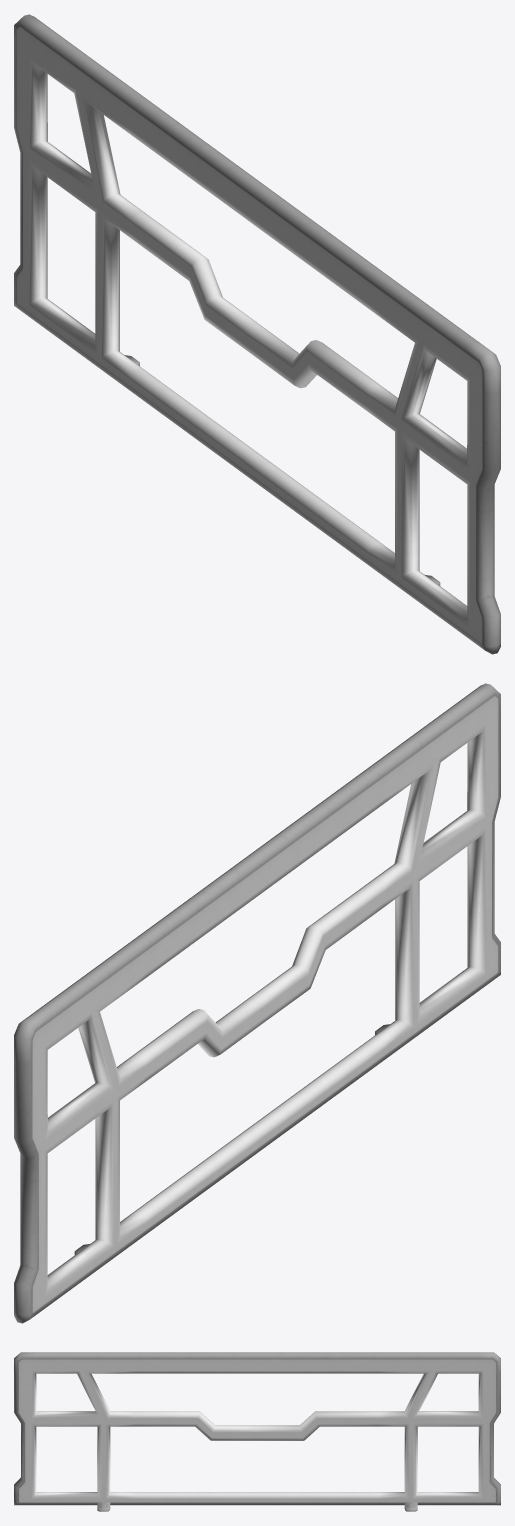
The model's file is SM_MStair01-Parapet-350-2.FBX.
3 renders of one model, top to bottom at view 1: azimuth 30°, elevation 25°; view 2: azimuth 150°, elevation 25°; view 3: azimuth 270°, elevation 25°, orthographic. The views are drawn at different scales.
Visible parts, largest first — view 1: SM_MStair01-Parapet-350-2; view 2: SM_MStair01-Parapet-350-2; view 3: SM_MStair01-Parapet-350-2.
Boxes of the visible parts, x1=… form: SM_MStair01-Parapet-350-2: x1=14, y1=14, x2=500, y2=654; SM_MStair01-Parapet-350-2: x1=14, y1=683, x2=500, y2=1323; SM_MStair01-Parapet-350-2: x1=14, y1=1352, x2=500, y2=1511.
Size of what is drawn, in the model's own units: 15.44 by 350 by 120.
